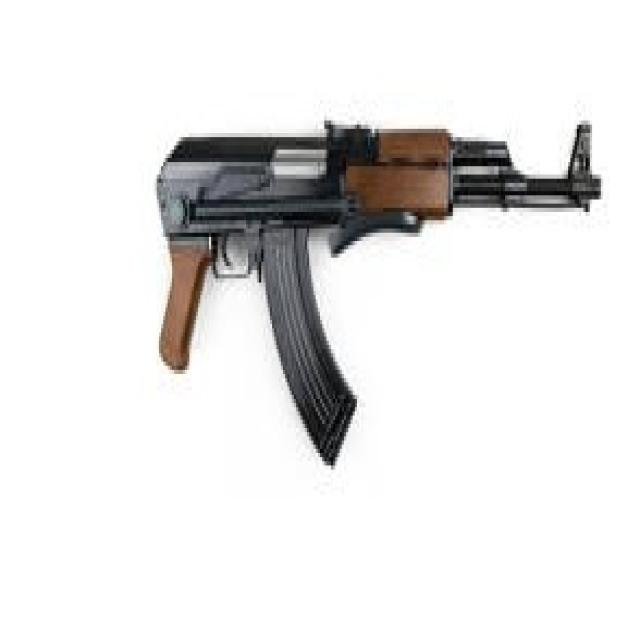rifle: (152, 104, 605, 469)
